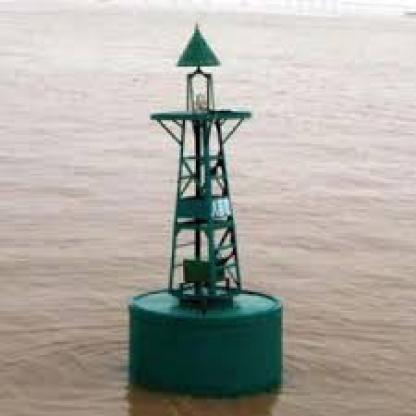buoy: (115, 15, 294, 403)
